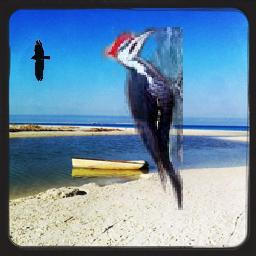Crow: (30, 39, 50, 81)
Woodpecker: (101, 28, 183, 211)
